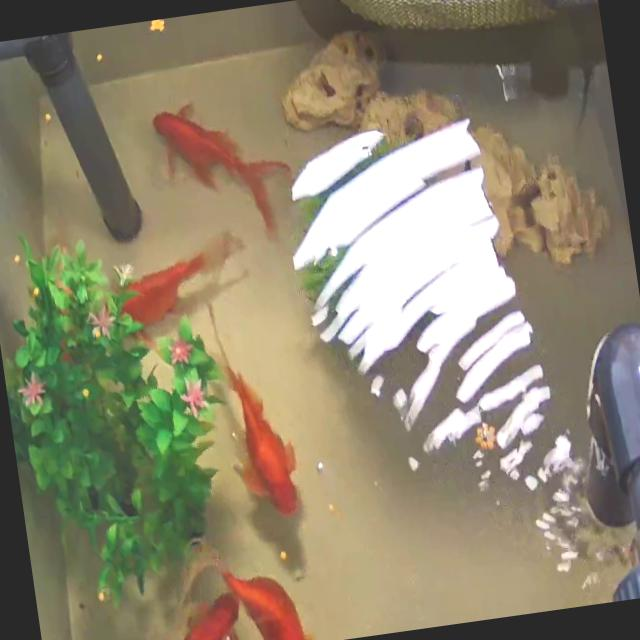fish: (186, 294, 324, 536), (122, 56, 290, 245), (69, 238, 254, 336), (216, 553, 311, 640), (126, 587, 249, 640)
